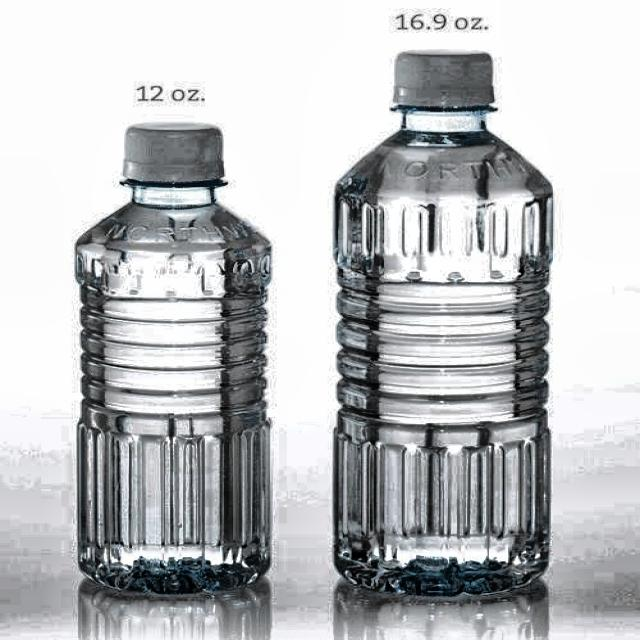Bottles: (304, 33, 588, 605), (46, 84, 294, 610)
